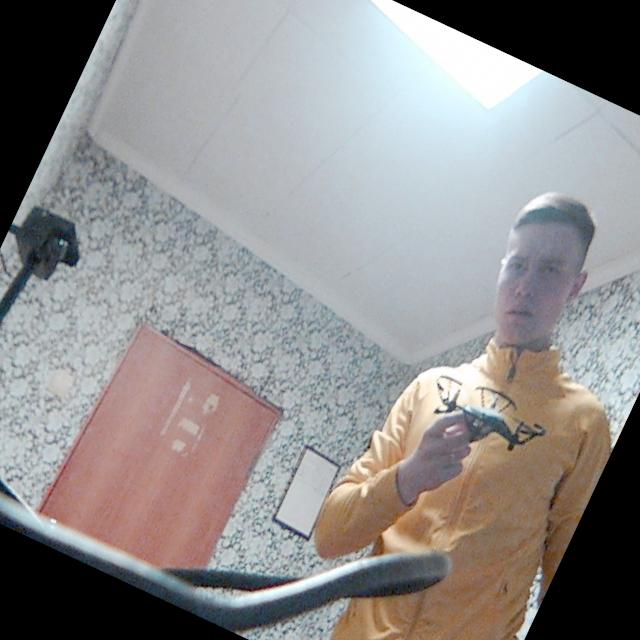drone: (411, 344, 569, 484)
